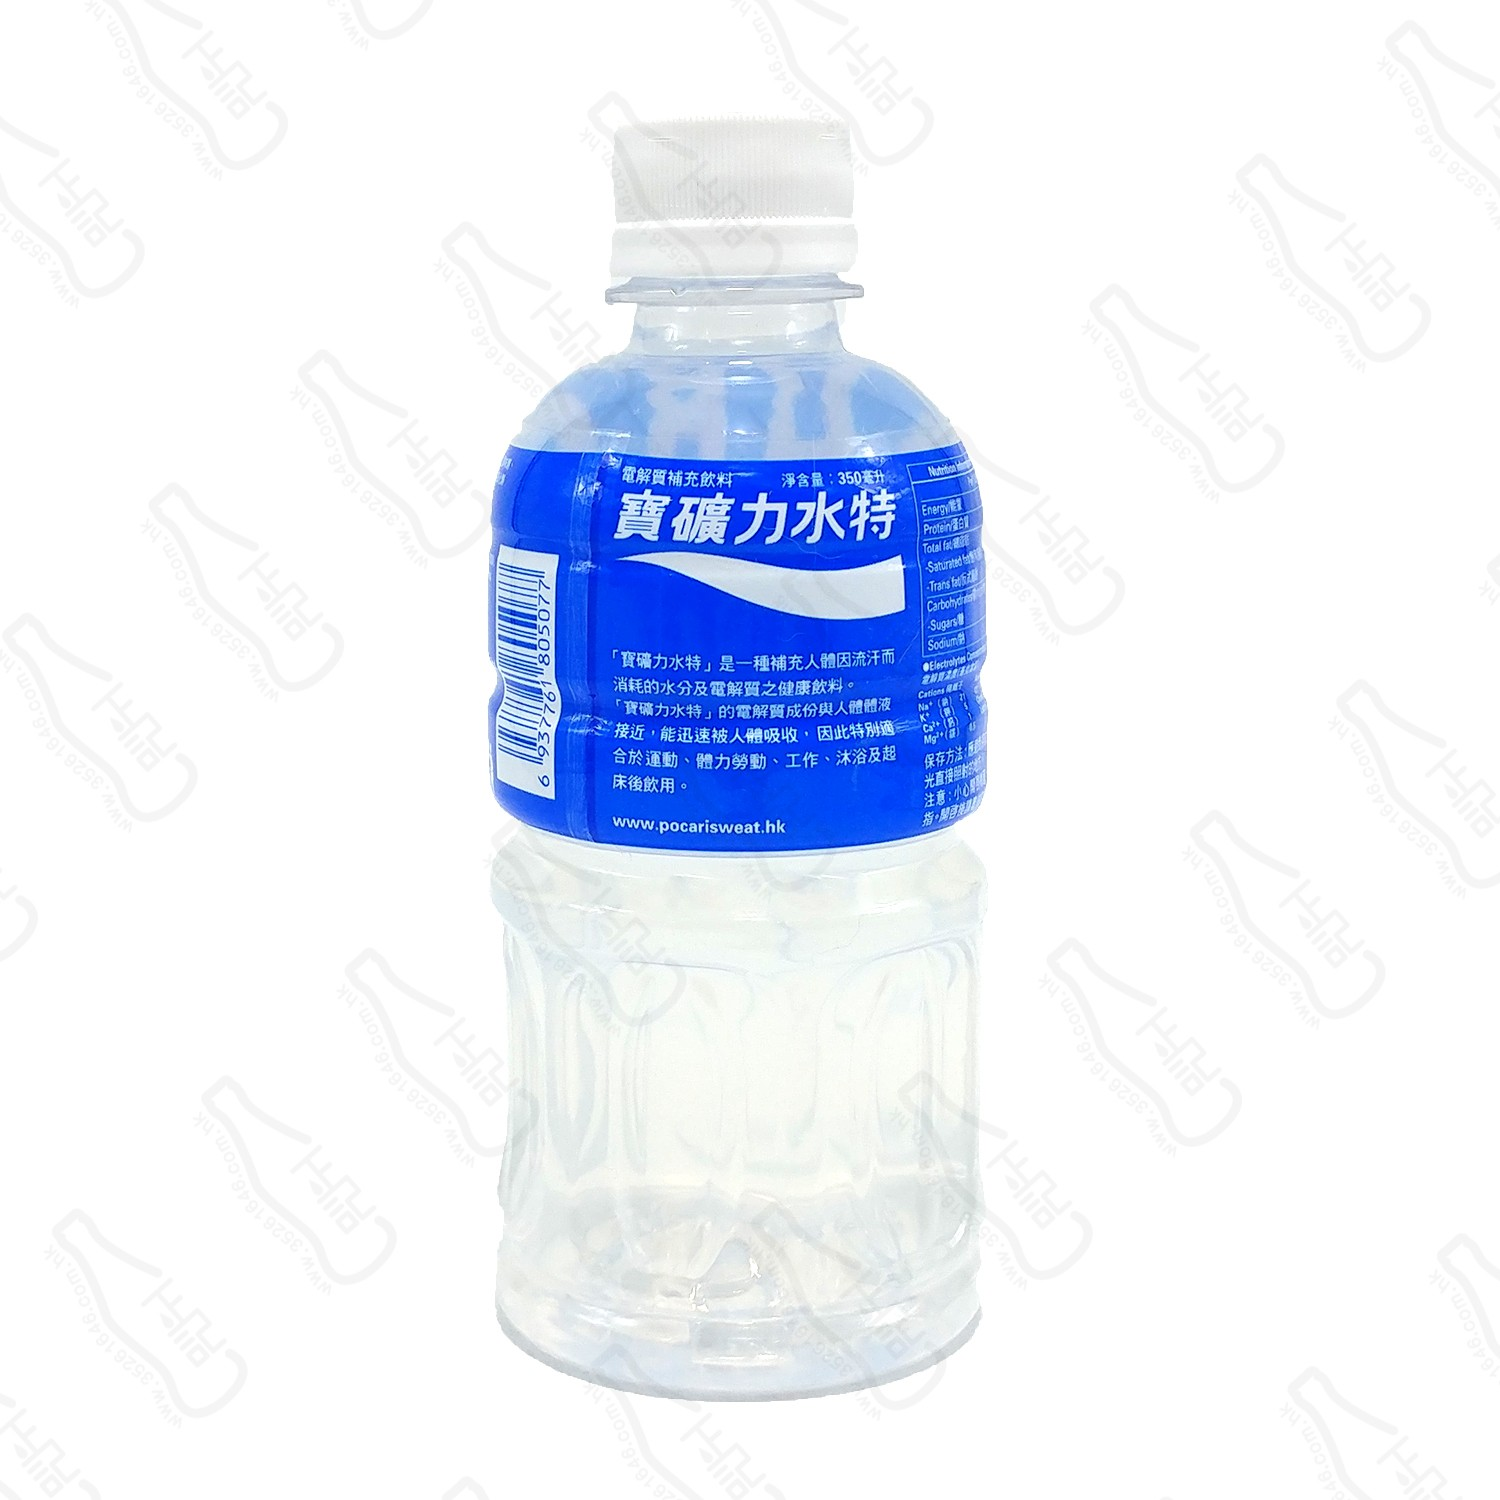POCARI SWEAT: (477, 113, 995, 1405)
